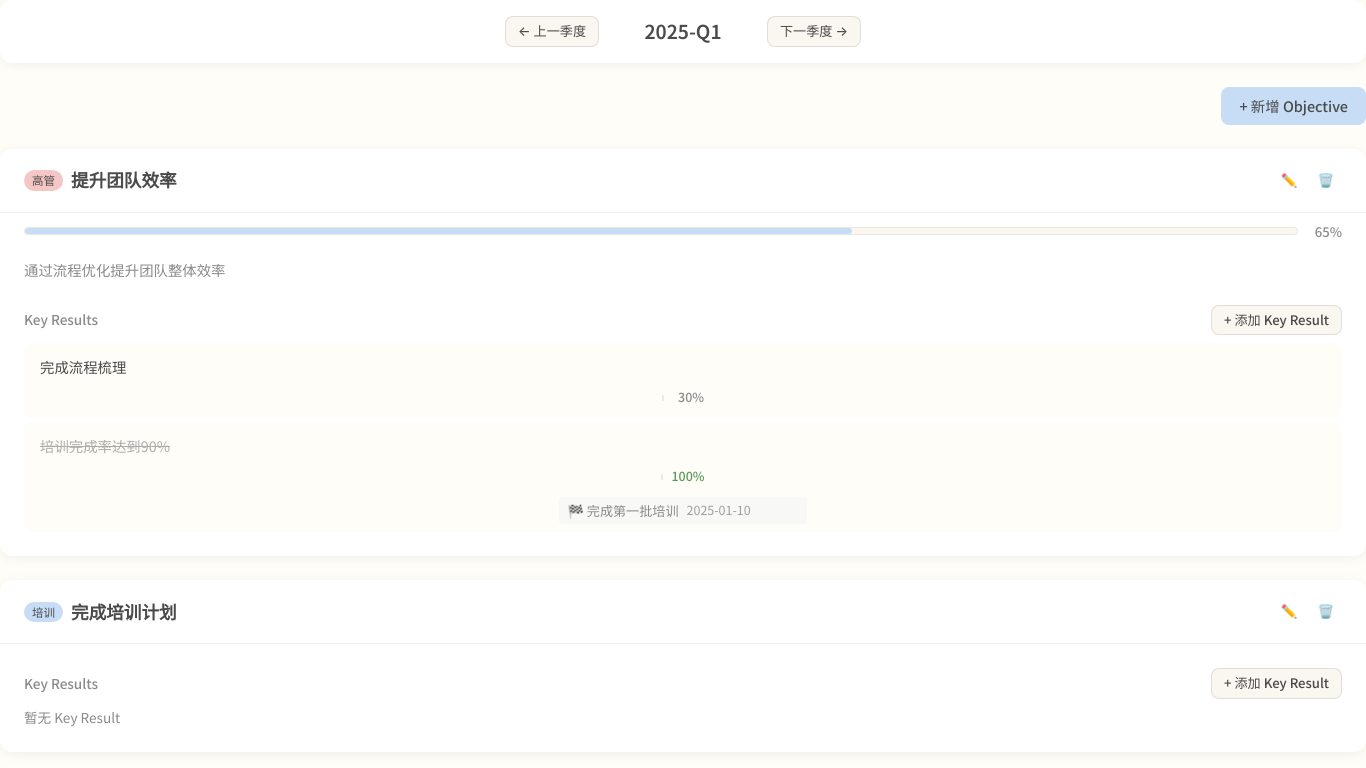
Test: OKRPage › opens create objective form and filters out "其他" category
Click the button "+ 新增 Objective": (1294, 106) top-left (1221, 87), bottom-right (1365, 125)
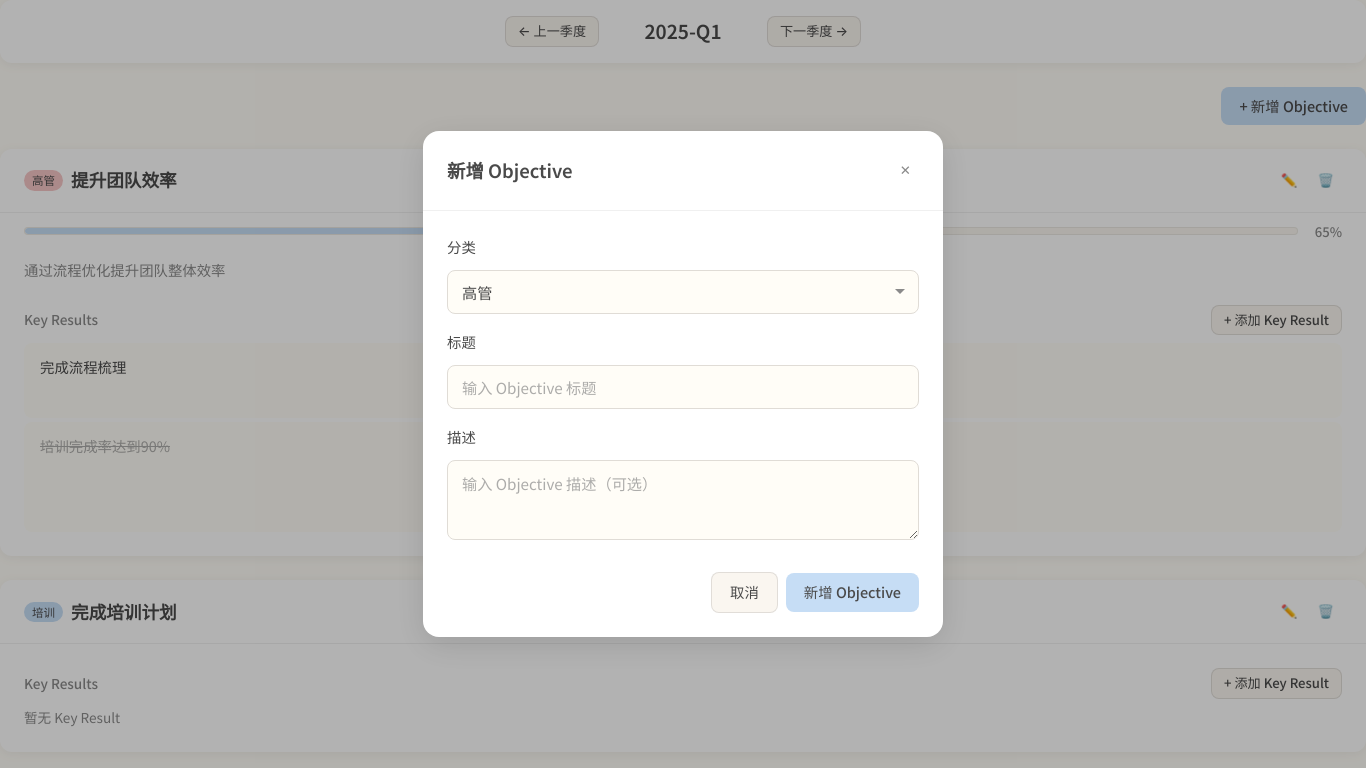
expect the field with placeholder "输入 Objective 标题" is shown: met, box top-left (447, 365), bottom-right (919, 409)
